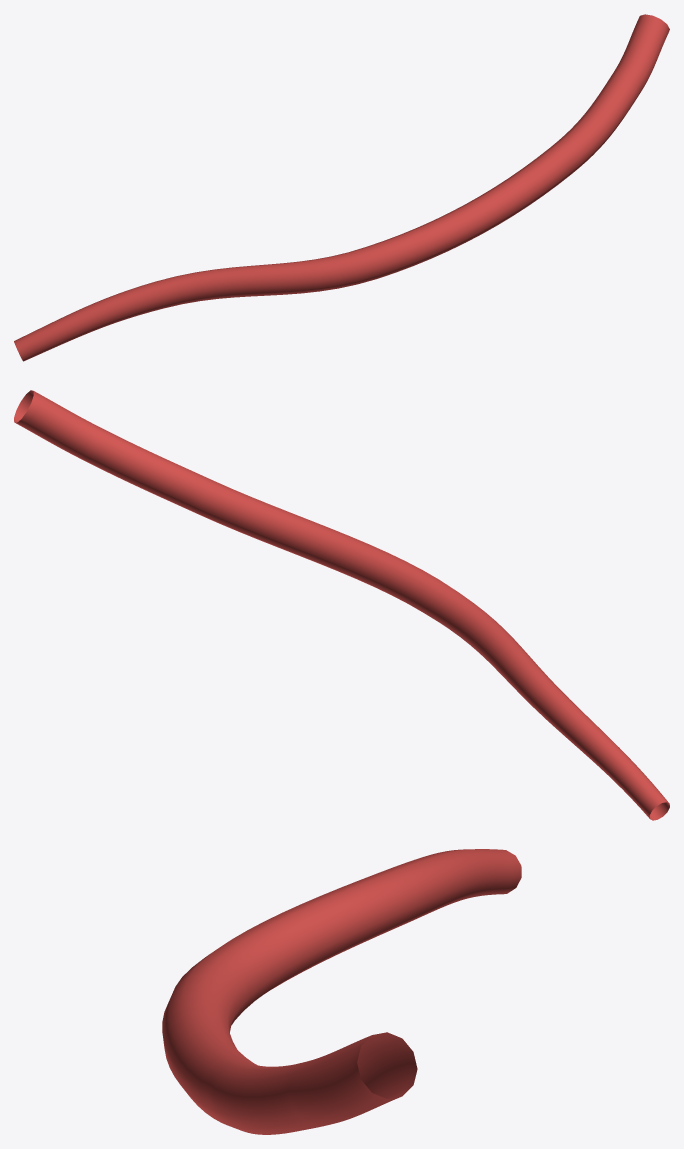
3 renders of one model, top to bottom at view 1: azimuth 30°, elevation 25°; view 2: azimuth 150°, elevation 25°; view 3: azimuth 270°, elevation 25°, orthographic. The views are drawn at different scales.
Visible parts, largest first — view 1: 左侧翼管动脉; view 2: 左侧翼管动脉; view 3: 左侧翼管动脉.
Boxes of the visible parts, <box> form: 左侧翼管动脉: <box>14,14,669,361</box>; 左侧翼管动脉: <box>14,390,669,820</box>; 左侧翼管动脉: <box>162,849,521,1134</box>.
Size of the model in its own units: 0.0371 by 0.0126 by 0.00928.
